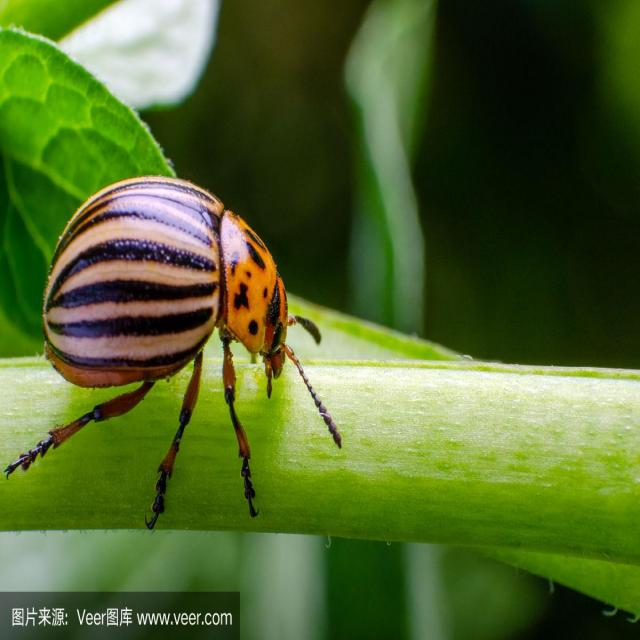ShuCaiHuaBanChong-Grown-: (35, 152, 316, 492)
